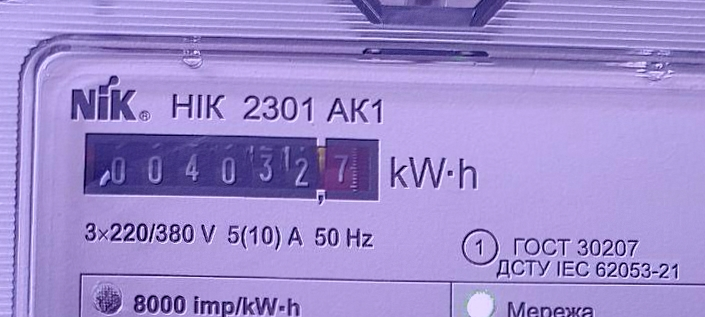0: (144, 152, 164, 186), (108, 152, 127, 185), (218, 153, 237, 186)
2: (292, 154, 310, 188)
3: (256, 151, 274, 183)
4: (181, 150, 201, 186)
7: (333, 151, 350, 184)
screen: (73, 124, 387, 213)
